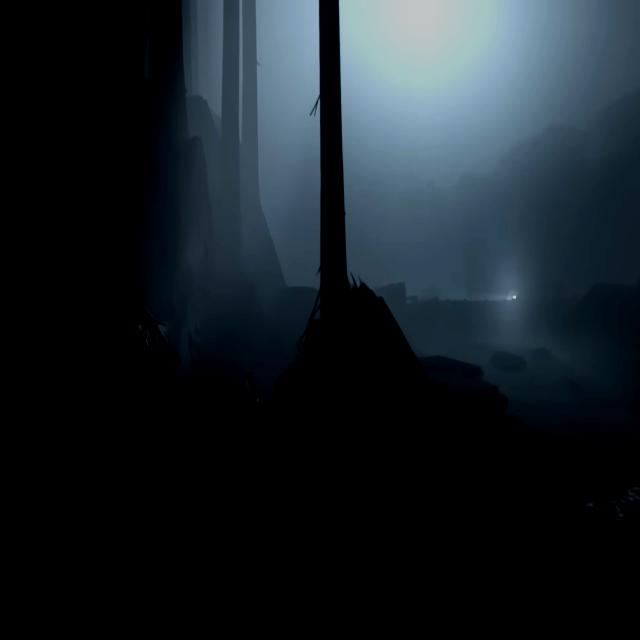boy: (246, 372, 267, 429)
